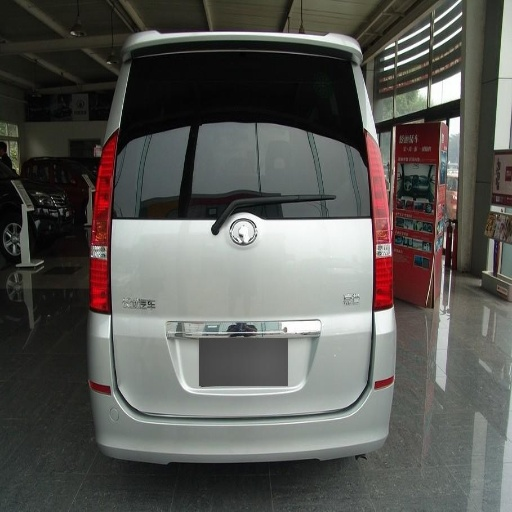back_bumper: (90, 312, 395, 464)
tailgate: (148, 278, 328, 415)
